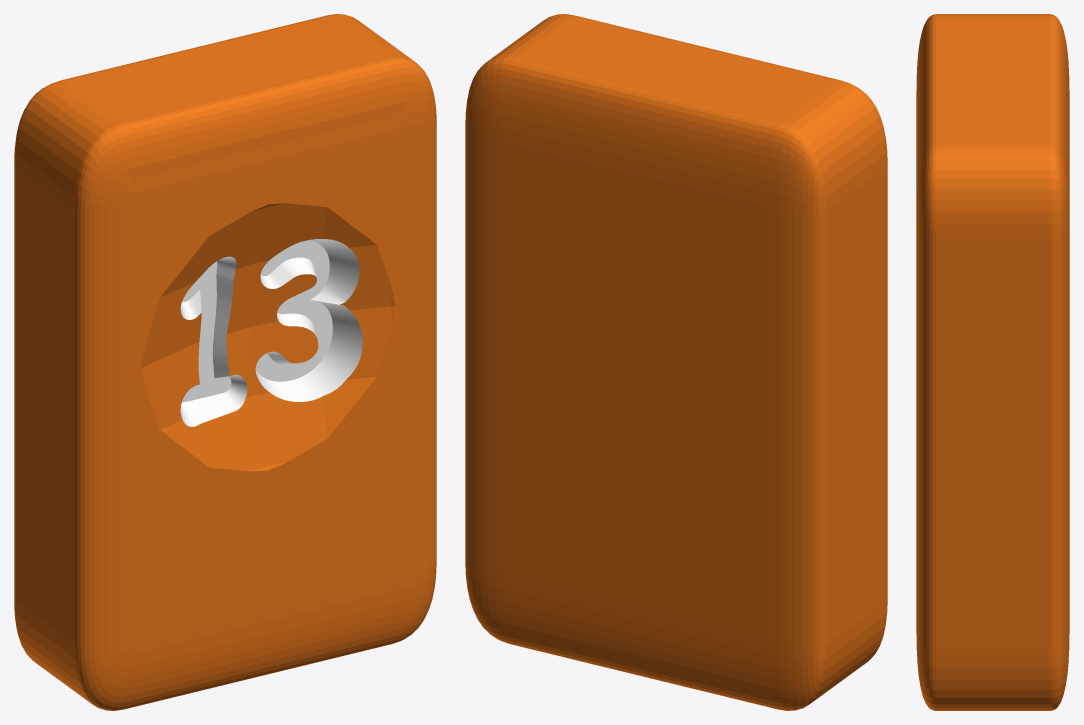
File: Rummikub Card 13.FBX
The picture shows the model from 3 angles, left to right: view 1: azimuth 30°, elevation 25°; view 2: azimuth 150°, elevation 25°; view 3: azimuth 270°, elevation 25°; orthographic projection. The views are drawn at different scales.
Visible parts, largest first — view 1: CardModel; view 2: CardModel; view 3: CardModel.
Boxes of the visible parts, <box> form: CardModel: <box>14,14,436,710</box>; CardModel: <box>465,14,887,710</box>; CardModel: <box>916,14,1069,710</box>.
Size of the model in its own units: 44.87 by 69.66 by 17.19.
